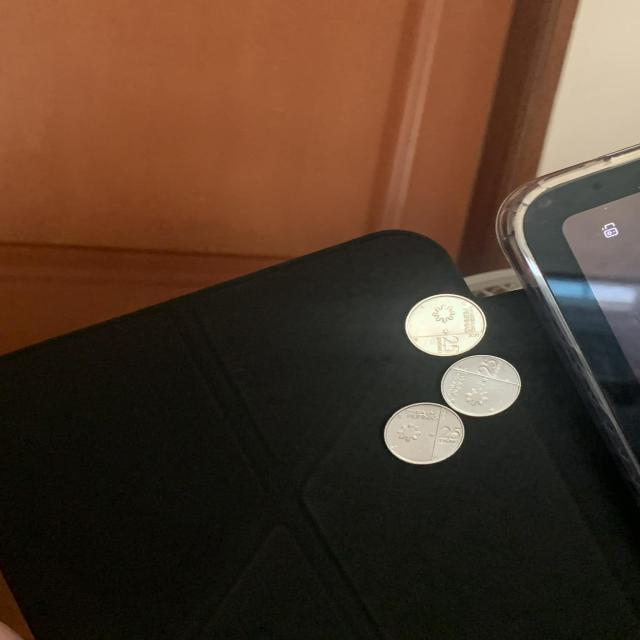25 cents: (402, 293, 493, 353), (382, 402, 463, 465), (440, 355, 520, 416)
